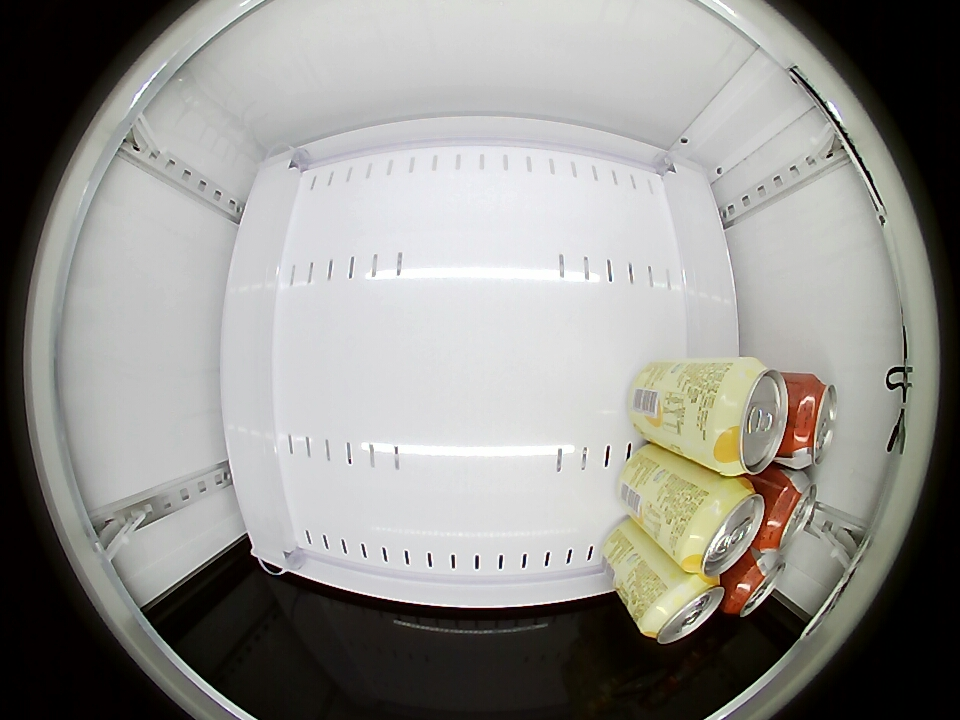jianlibao: (784, 376, 838, 469), (758, 470, 818, 552), (726, 550, 787, 618)
mangguoxiaolao: (704, 358, 791, 477), (677, 478, 767, 577), (639, 572, 725, 645)
